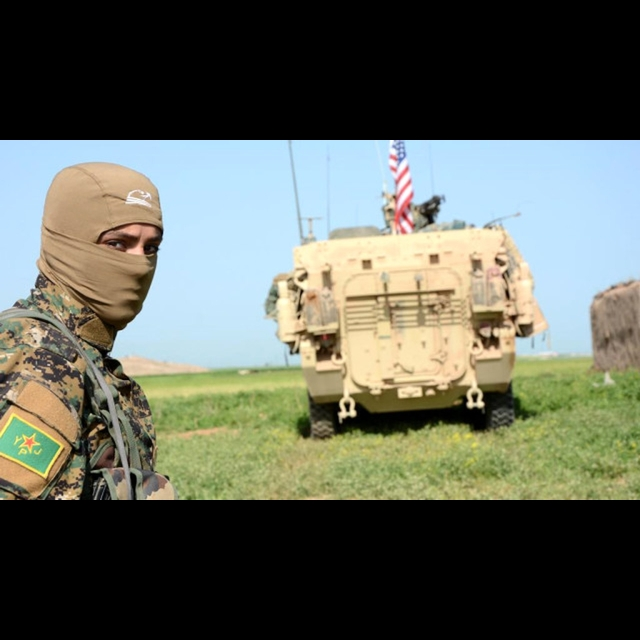YPJ: (5, 427, 45, 461)
